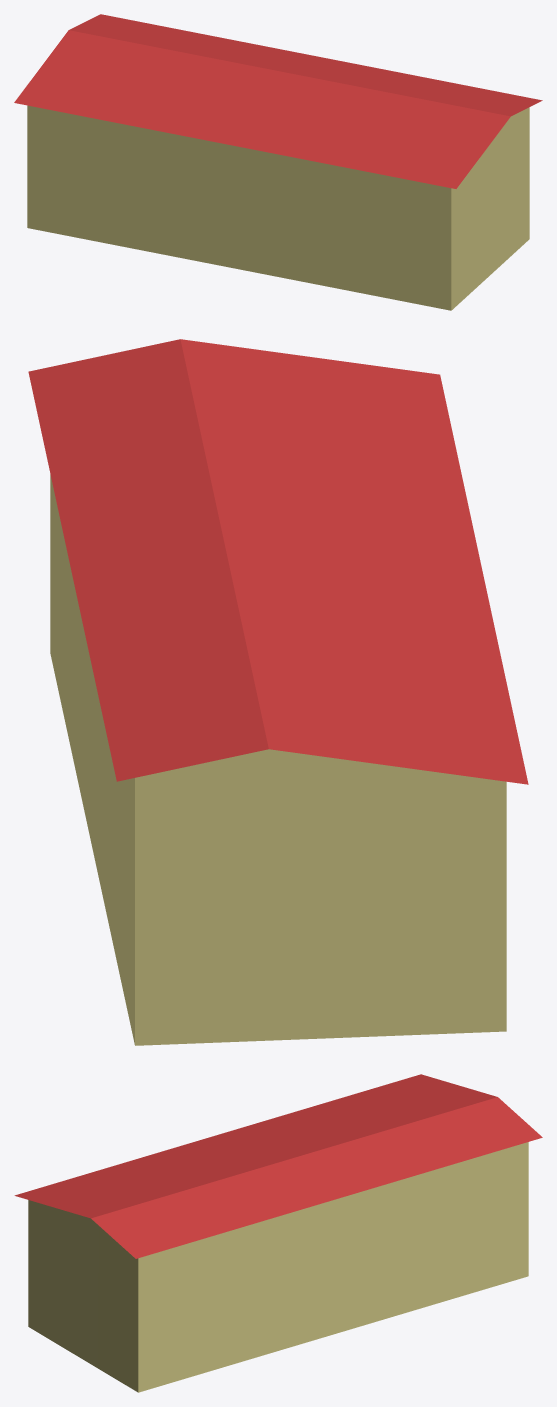
3 renders of one model, top to bottom at view 1: azimuth 30°, elevation 25°; view 2: azimuth 150°, elevation 25°; view 3: azimuth 270°, elevation 25°, orthographic. The views are drawn at different scales.
Size of the model in its own units: 22.41 by 25.77 by 8.24.
